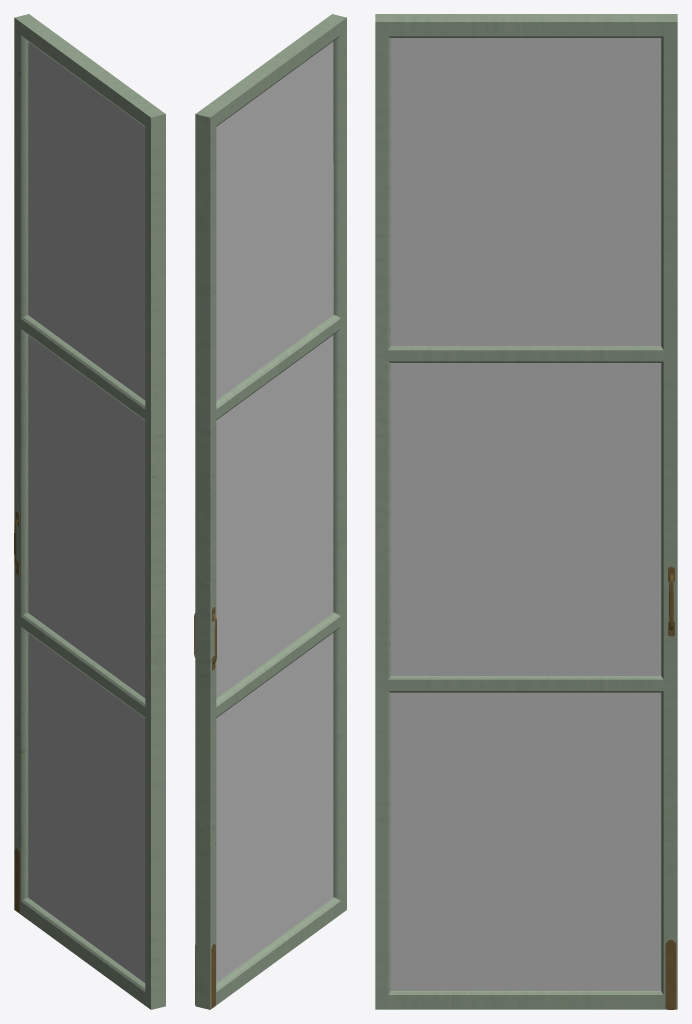
The model's file is SM_WW28_Door_1.fbx.
3 renders of one model, left to right at view 1: azimuth 30°, elevation 25°; view 2: azimuth 150°, elevation 25°; view 3: azimuth 270°, elevation 25°, orthographic. The views are drawn at different scales.
Parts seen in each view (by area): view 1: SM_WW28_Door_1; view 2: SM_WW28_Door_1; view 3: SM_WW28_Door_1.
Part boxes in pixels (left/top/right/bottom): SM_WW28_Door_1: left=14, top=14, right=165, bottom=1009; SM_WW28_Door_1: left=194, top=14, right=346, bottom=1009; SM_WW28_Door_1: left=375, top=14, right=677, bottom=1009.
Bounding box in the file's own units: 4.55 × 51.02 × 184.
Materials: 3 (2 with a texture image).
